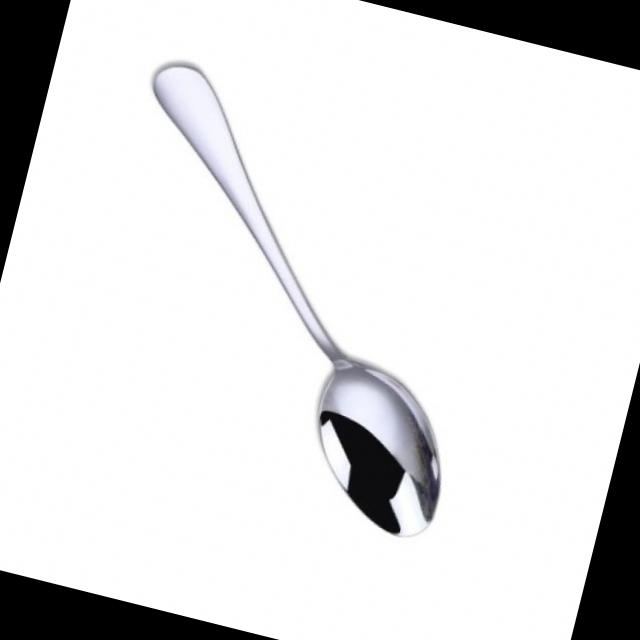spoon: (35, 25, 549, 574)
